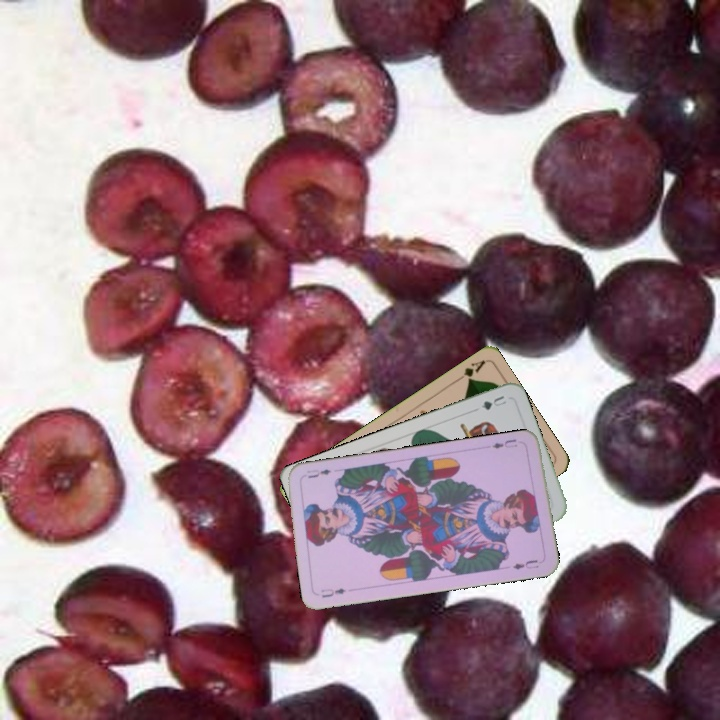EU: (488, 435, 520, 451), (317, 584, 348, 600)
GA: (451, 356, 487, 385)
GU: (477, 391, 509, 413)
